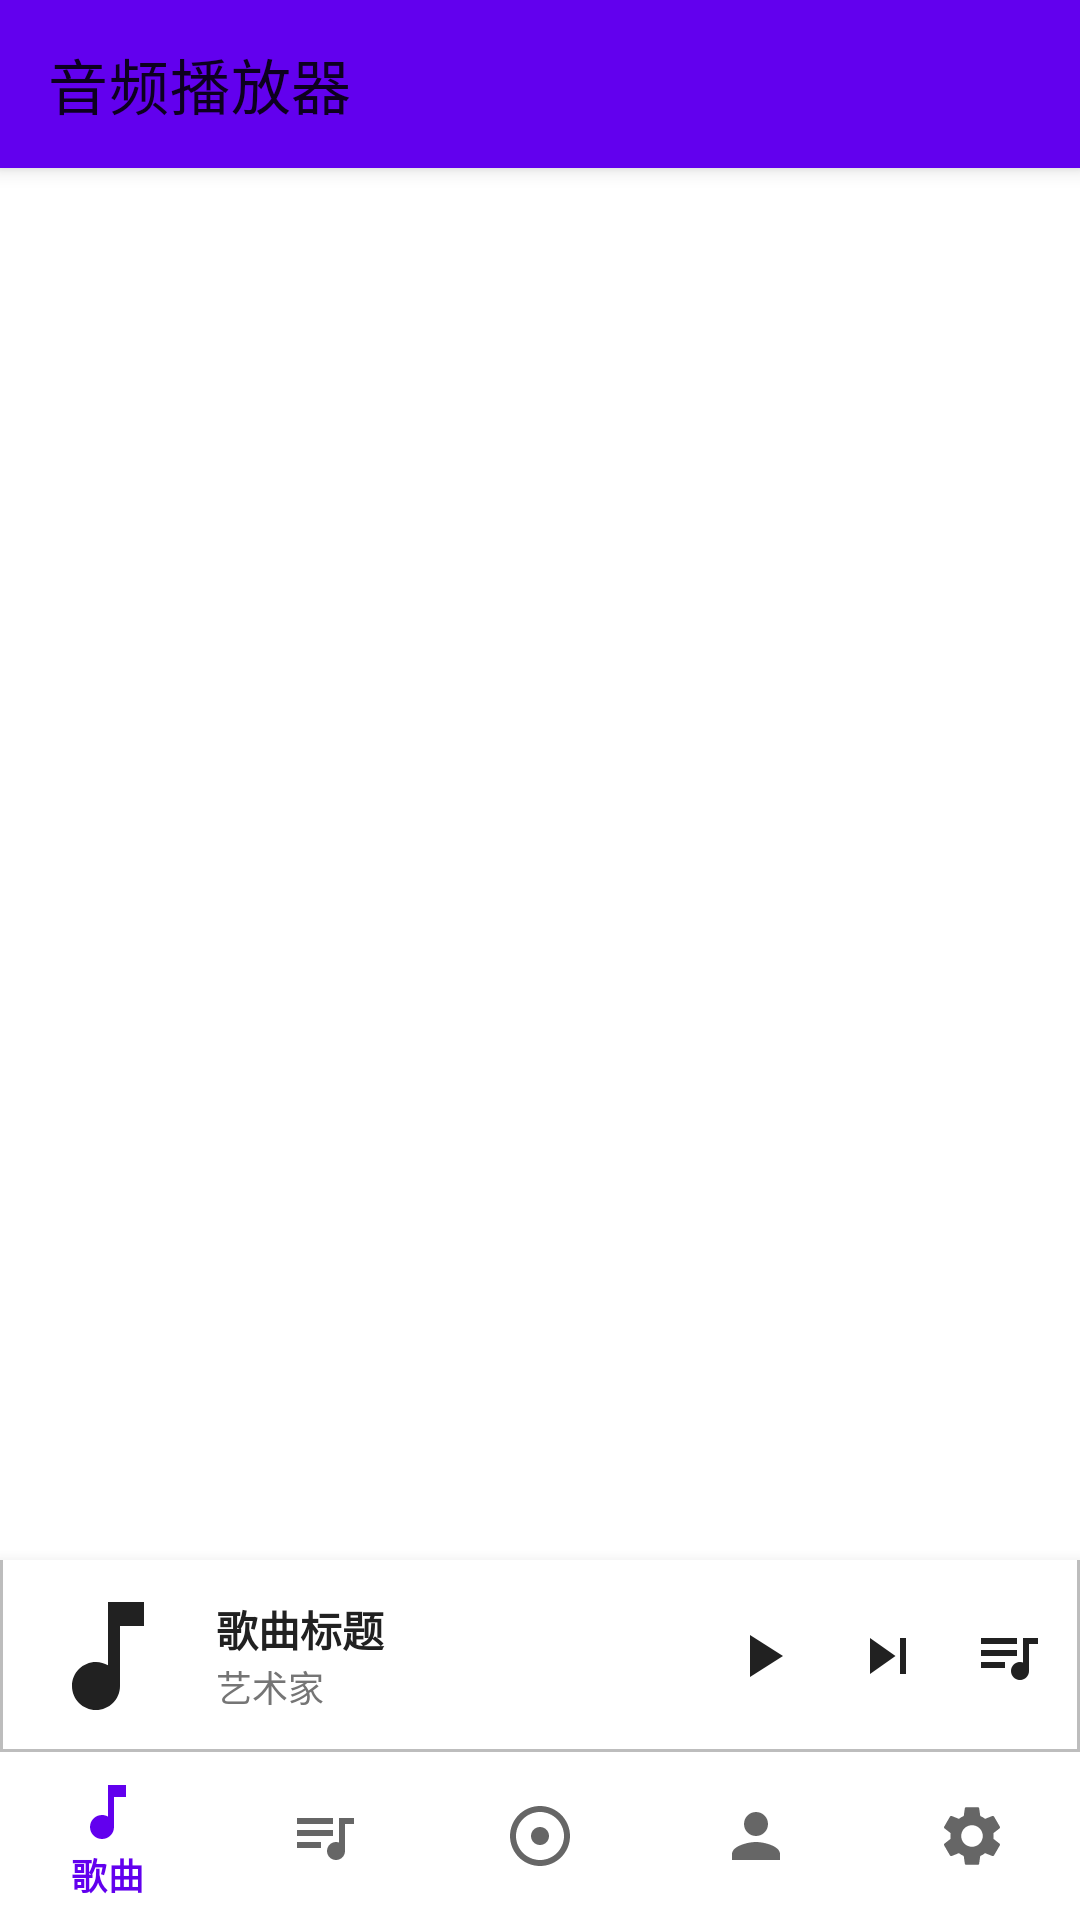

Where icons sit on this 1080w x 1920h app screen, as (x1, y1, x2, y2):
music note: (72, 1602, 144, 1710)
play: (750, 1635, 783, 1677)
queue music: (981, 1638, 1038, 1680)
skip next: (870, 1638, 906, 1674)
